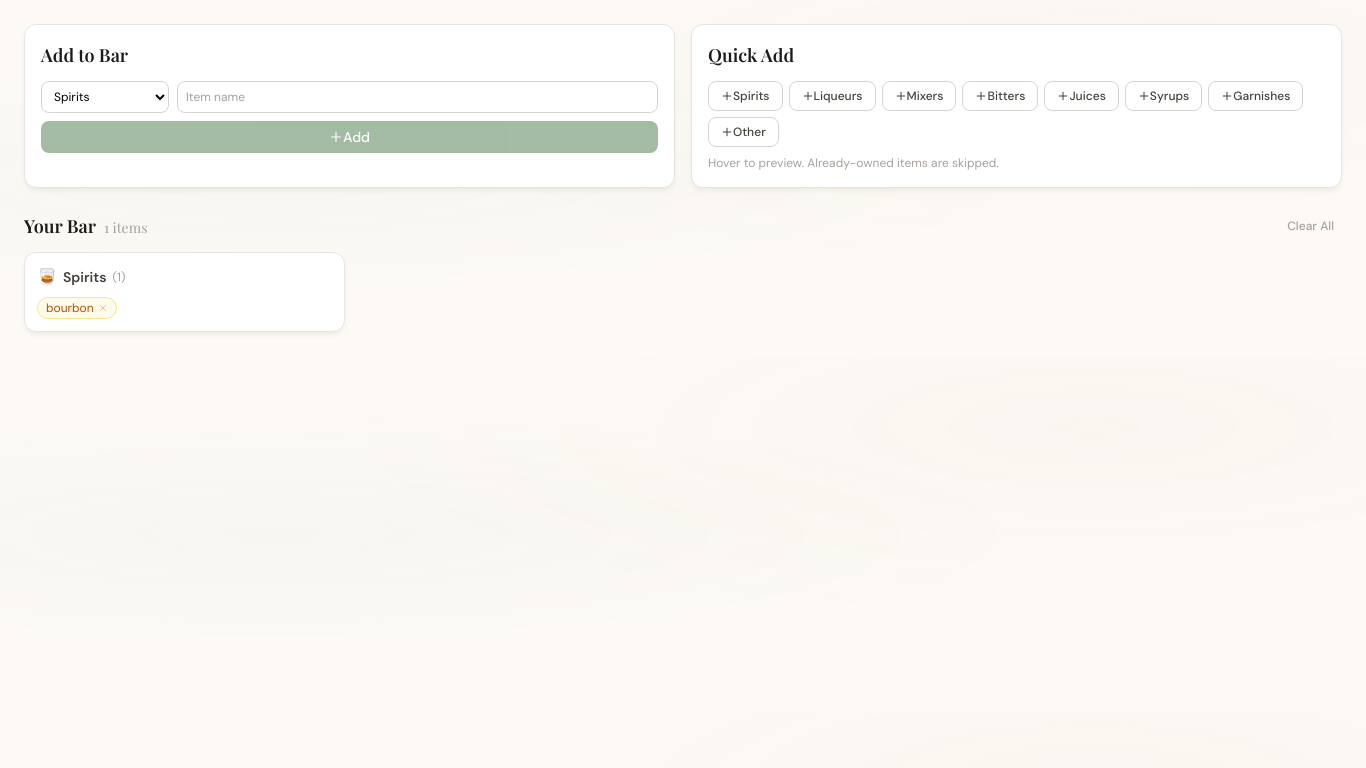
Test: BarInventory › Quick-Add: bulk-POSTs the category list and dedupes (case-insensitive) against existing items
Expected: the text "bourbon" is shown, [37,297,117,319]
Click the button "Spirits".
click(745, 96)  # box [708,81,782,111]
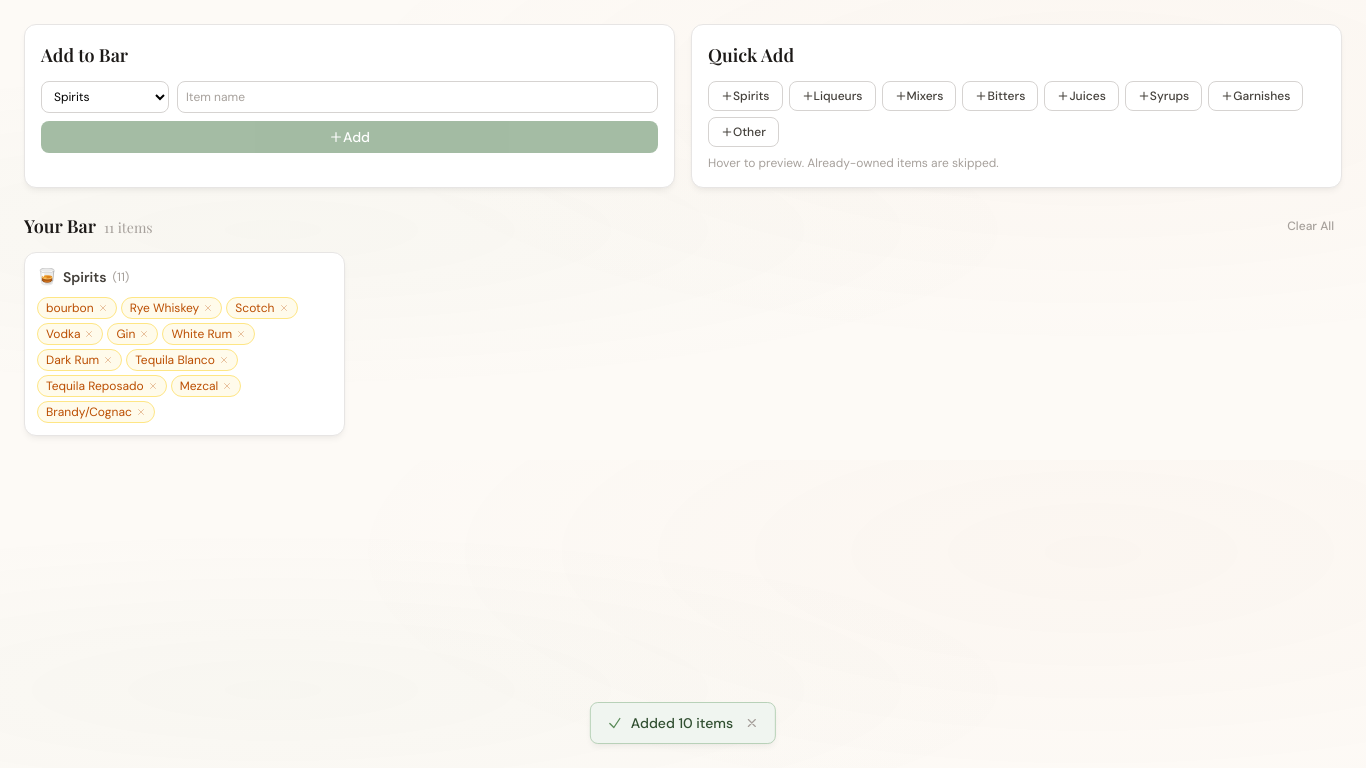
Expected: the text "Gin" is shown, [108,323,158,345]
